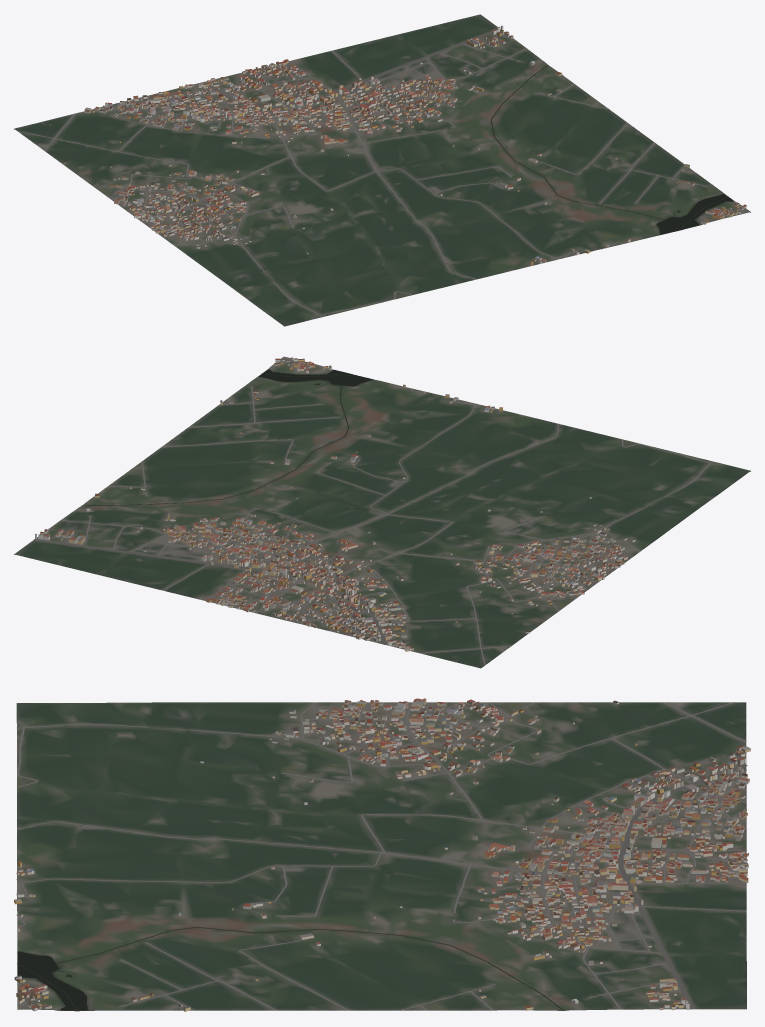
3 renders of one model, top to bottom at view 1: azimuth 30°, elevation 25°; view 2: azimuth 150°, elevation 25°; view 3: azimuth 270°, elevation 25°, orthographic. The views are drawn at different scales.
Visible parts, largest first — view 1: ground, buildings, roads, water; view 2: ground, buildings, roads, water; view 3: ground, buildings, roads, water.
Boxes of the visible parts, bbox=[...] form: ground: bbox=[14, 14, 750, 326]; buildings: bbox=[62, 25, 746, 265]; roads: bbox=[18, 29, 745, 316]; water: bbox=[490, 65, 733, 234]; ground: bbox=[14, 356, 750, 668]; buildings: bbox=[35, 357, 635, 651]; roads: bbox=[33, 357, 712, 665]; water: bbox=[82, 369, 373, 505]; ground: bbox=[16, 702, 746, 1011]; buildings: bbox=[14, 698, 750, 1011]; roads: bbox=[16, 702, 747, 1010]; water: bbox=[17, 927, 563, 1010].
Size of the model in its own units: 1411 by 24.55 by 1416.
